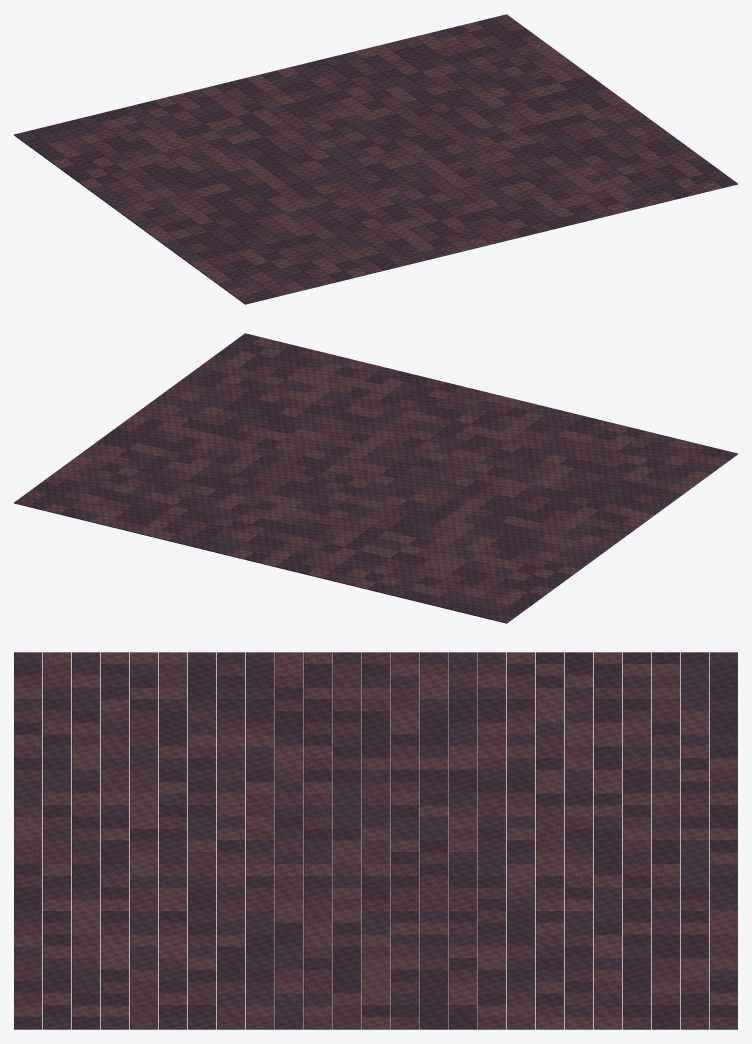
The model's file is floor.glb.
3 renders of one model, top to bottom at view 1: azimuth 30°, elevation 25°; view 2: azimuth 150°, elevation 25°; view 3: azimuth 270°, elevation 25°, orthographic. The views are drawn at different scales.
Visible parts, largest first — view 1: floor · Paving 3, floor · Paving 1, floor · Paving 2, floor · Paving 0; view 2: floor · Paving 3, floor · Paving 1, floor · Paving 2, floor · Paving 0; view 3: floor · Paving 3, floor · Paving 1, floor · Paving 2, floor · Paving 0.
Part boxes in pixels (bbox=[...]): floor · Paving 3: bbox=[23, 18, 737, 300]; floor · Paving 1: bbox=[63, 14, 707, 296]; floor · Paving 2: bbox=[48, 22, 722, 297]; floor · Paving 0: bbox=[14, 29, 728, 304]; floor · Paving 3: bbox=[29, 333, 722, 619]; floor · Paving 1: bbox=[14, 341, 712, 601]; floor · Paving 2: bbox=[44, 337, 728, 605]; floor · Paving 0: bbox=[73, 340, 737, 623]; floor · Paving 3: bbox=[14, 652, 737, 1029]; floor · Paving 1: bbox=[14, 652, 737, 1029]; floor · Paving 2: bbox=[14, 652, 737, 1029]; floor · Paving 0: bbox=[14, 652, 737, 1029].
Bounding box in the file's own units: 39.48 × 0.1 × 32.1.
Materials: 4 (4 with a texture image).
